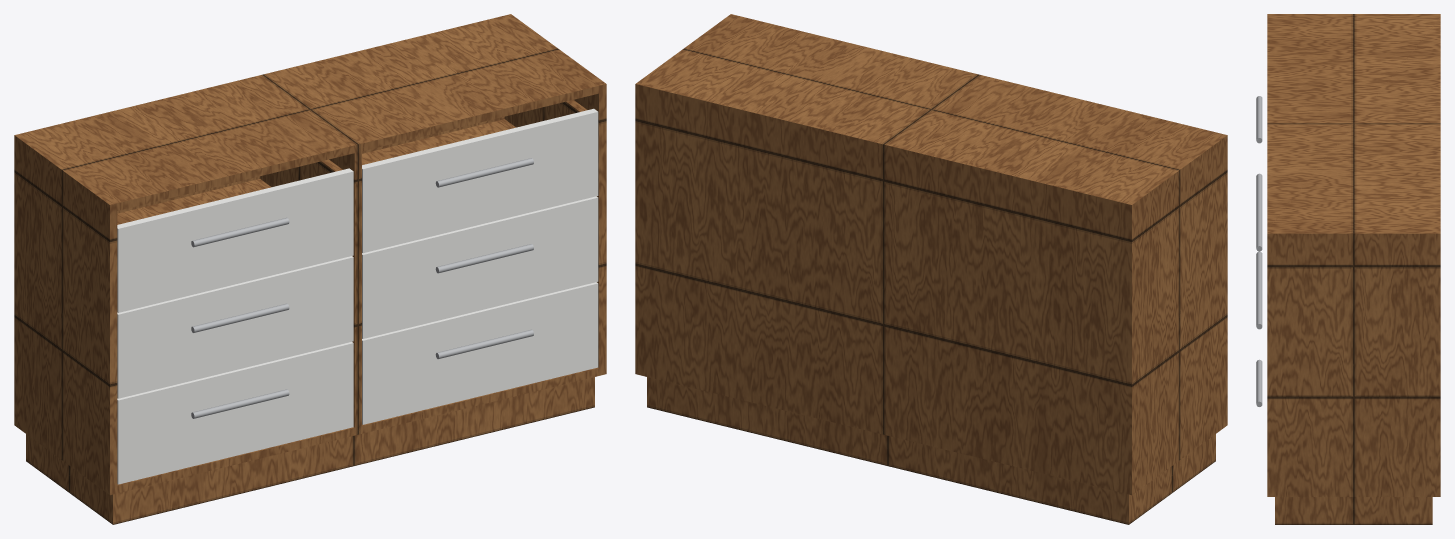
Rendered from Komod_6_fiokos.obj.
The picture shows the model from 3 angles, left to right: view 1: azimuth 30°, elevation 25°; view 2: azimuth 150°, elevation 25°; view 3: azimuth 270°, elevation 25°; orthographic projection. The views are drawn at different scales.
Bounding box in the file's own units: 1.2 × 0.75 × 0.425.
3 materials, 1 textured.
